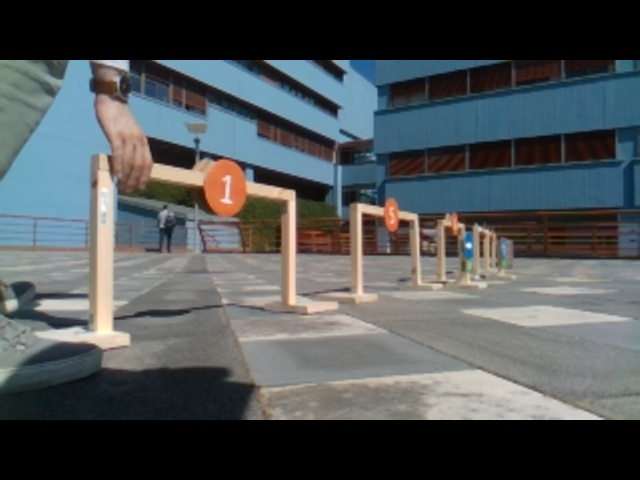checkpoint_foot: (32, 319, 134, 348), (265, 297, 342, 316), (313, 286, 379, 304), (391, 278, 448, 294)
checkpoint_side: (84, 148, 120, 332), (277, 181, 300, 303), (347, 202, 367, 290), (408, 211, 425, 285), (435, 218, 447, 278)
checkpoint_signal: (86, 153, 302, 205), (346, 201, 422, 218)
one: (199, 159, 253, 216)
